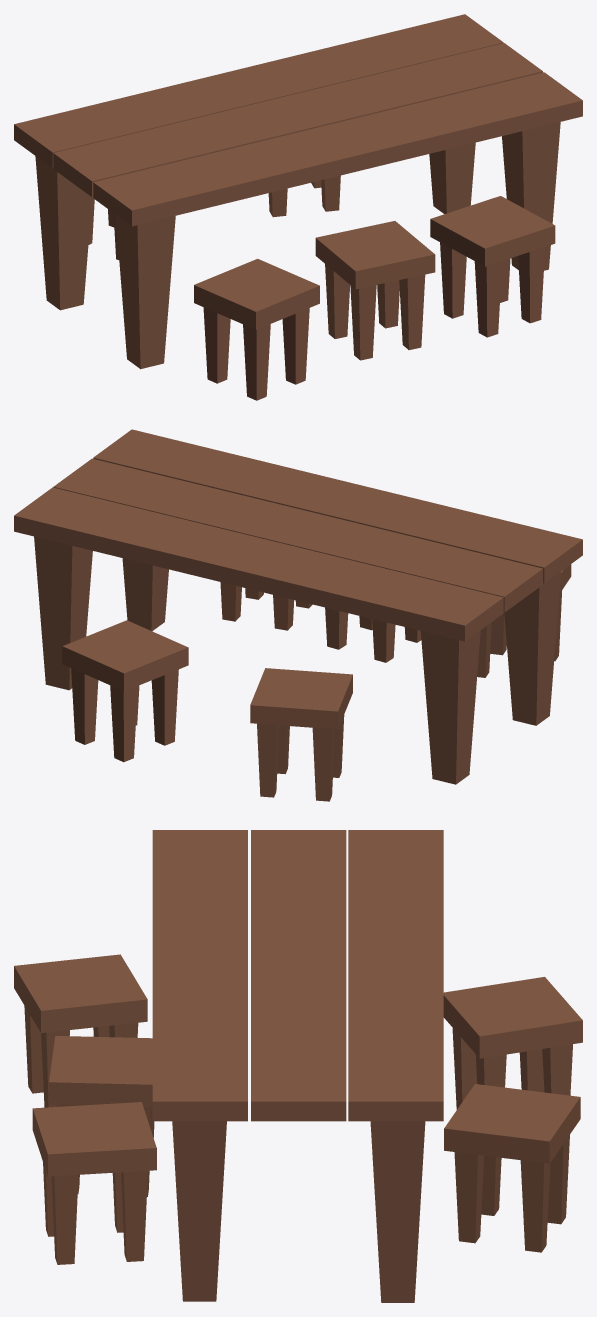
The model's file is table for interior.fbx.
3 renders of one model, top to bottom at view 1: azimuth 30°, elevation 25°; view 2: azimuth 150°, elevation 25°; view 3: azimuth 270°, elevation 25°, orthographic. The views are drawn at different scales.
Parts seen in each view (by area): view 1: Cube; view 2: Cube; view 3: Cube.
Part boxes in pixels (box(x1,y1,x2,y2)): Cube: box(14, 14, 582, 400); Cube: box(14, 429, 582, 801); Cube: box(14, 830, 582, 1302).
Size of the model in its own units: 336 by 123 by 298.
